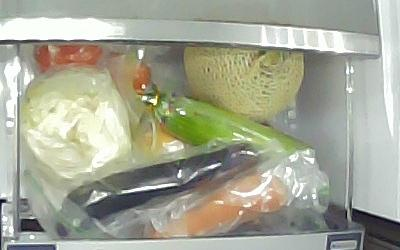cabbage_vinyl: (19, 65, 132, 179)
carrot_vinyl: (140, 170, 288, 238)
eggplant_vinyl: (54, 140, 264, 240)
melon: (182, 43, 304, 122)
prune_vinyl: (105, 51, 151, 92)
tomato_vinyl: (31, 42, 103, 74)
zucchini: (159, 96, 312, 155)
